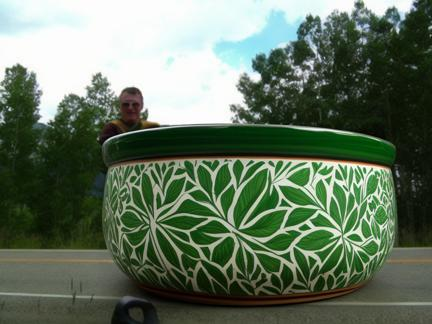person: (100, 87, 175, 324)
pottedplant: (99, 124, 395, 308)
